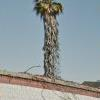Palm tree: (30, 3, 74, 76)
